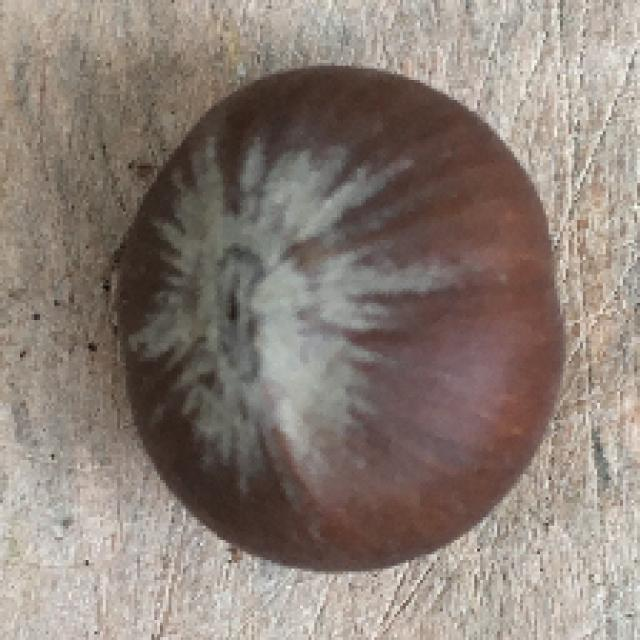qualityHazelnut: (117, 66, 563, 573)
